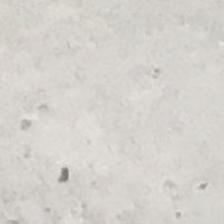Non_Crack: (18, 3, 224, 224)
